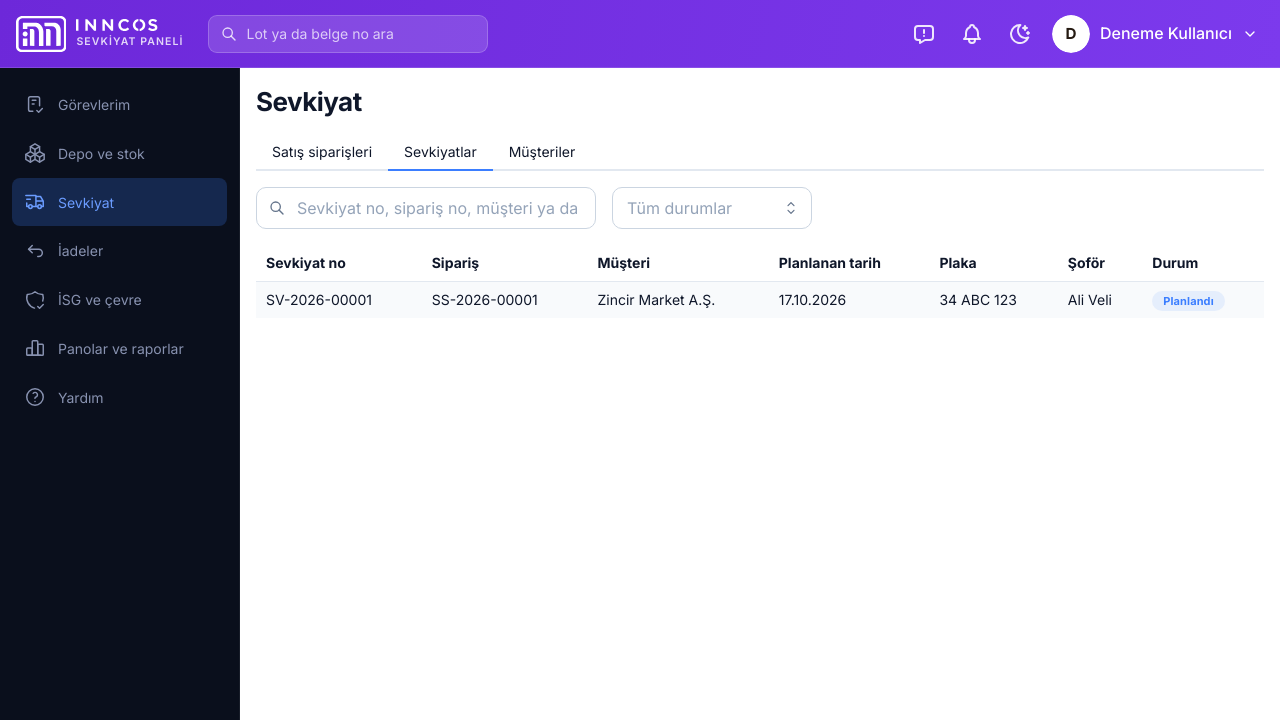
Test: sevkiyat planlama › sevkiyat listesi açılır, satıra tıklayınca detaya gidilir
Step 1. Click the text "SV-2026-00001" → (339, 300), box [256,281,422,318]
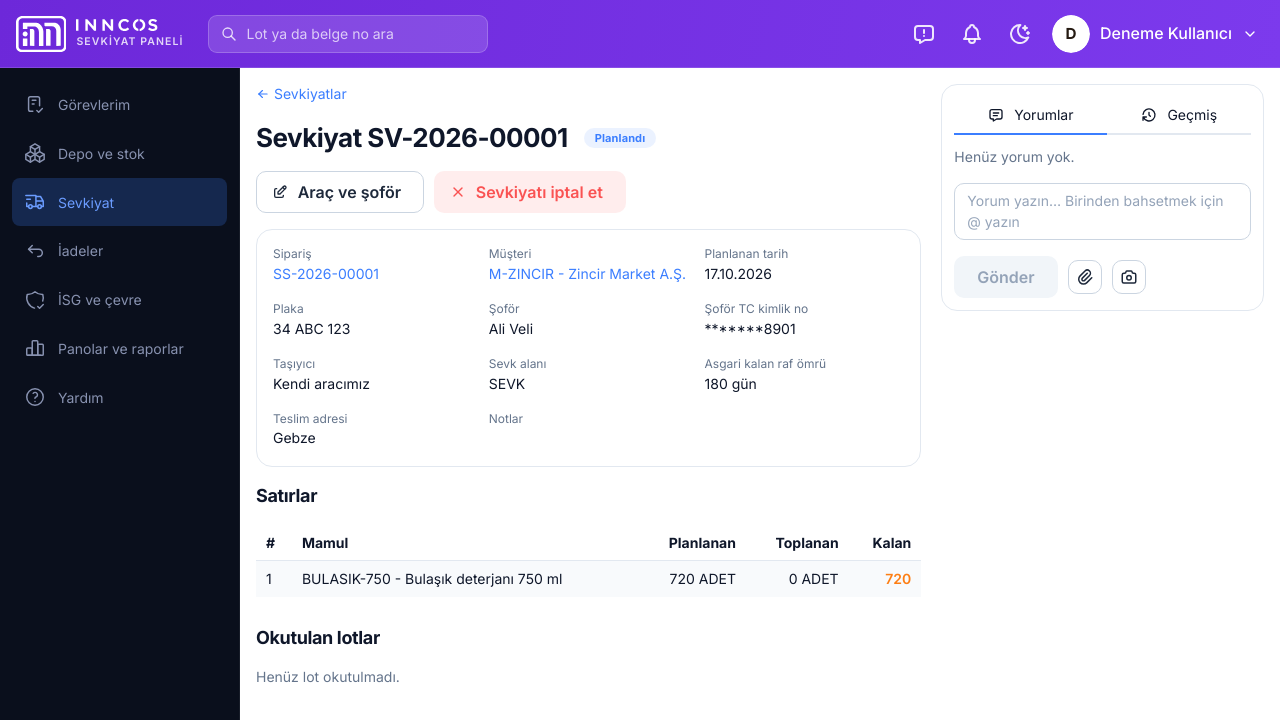
Result: the heading "Sevkiyat SV-2026-00001" is shown at [256,120,568,155]
